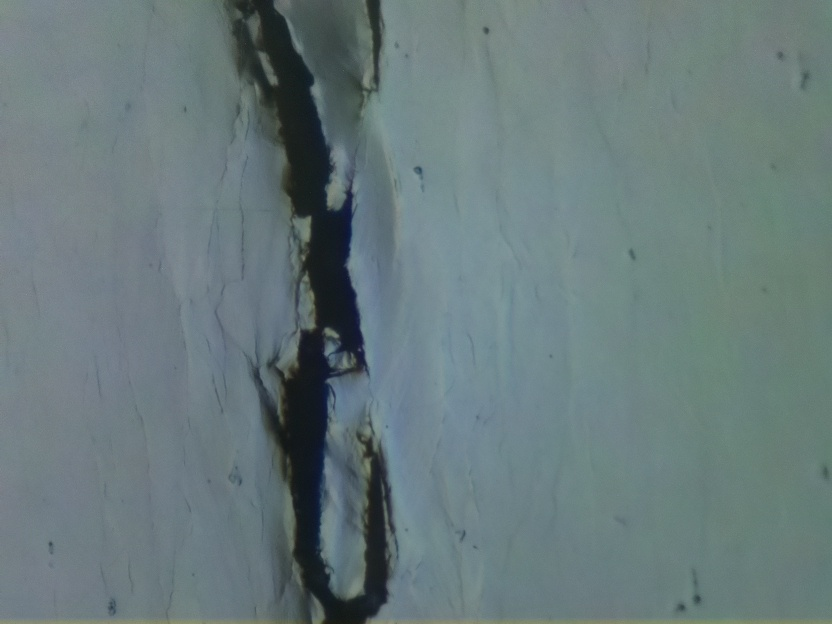crack: (229, 0, 396, 623), (358, 0, 393, 97)
